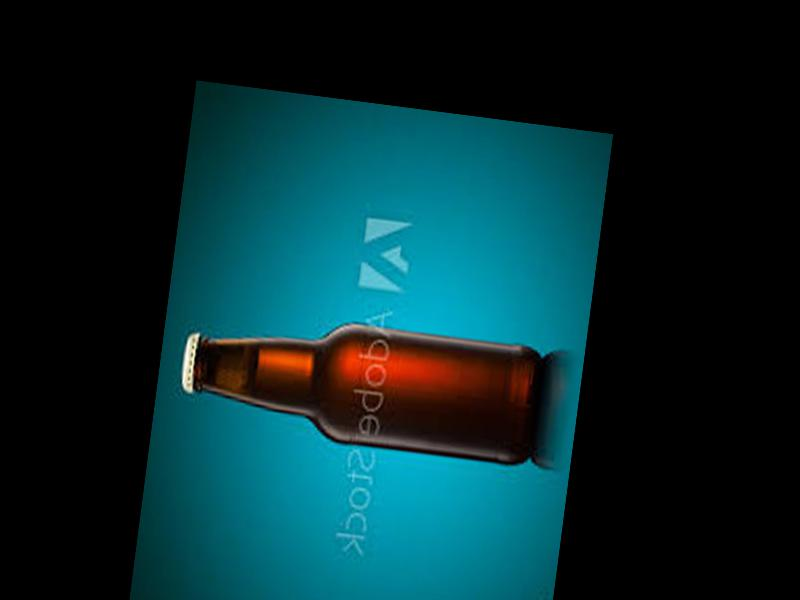Beer: (175, 303, 546, 470)
